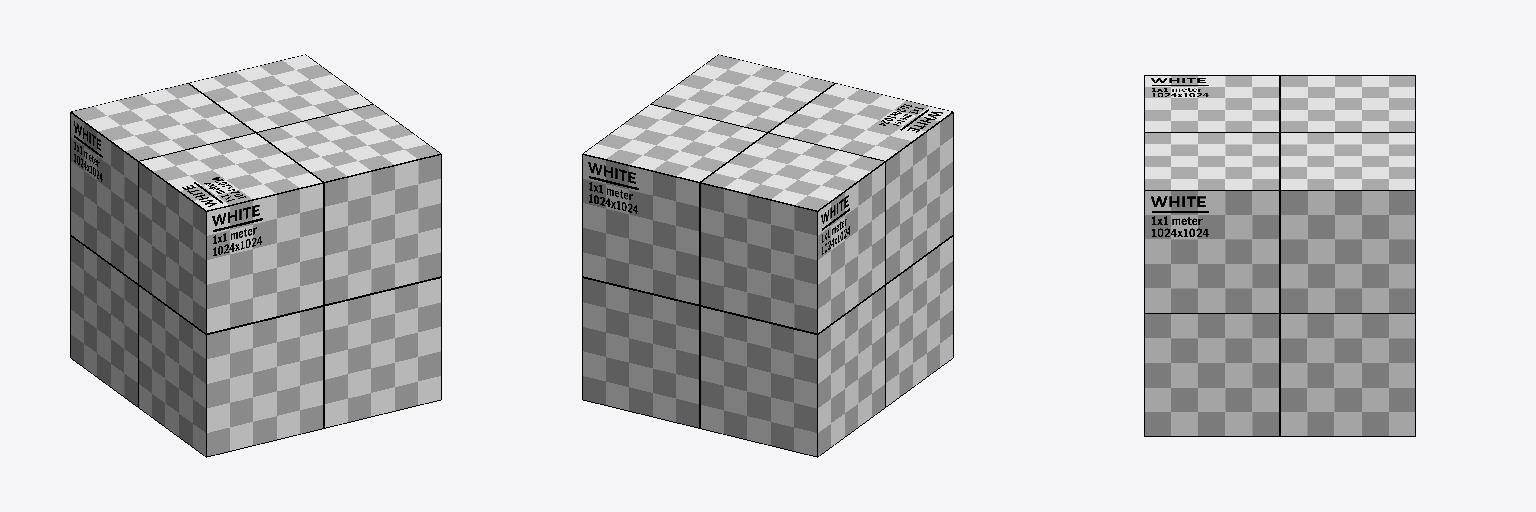
The picture shows the model from 3 angles: view 1: azimuth 30°, elevation 25°; view 2: azimuth 150°, elevation 25°; view 3: azimuth 270°, elevation 25°; orthographic projection.
Parts seen in each view (by area): view 1: Cube; view 2: Cube; view 3: Cube.
Boxes of the visible parts, box(x1,y1,x2,y2) form: Cube: box(70, 54, 441, 457); Cube: box(582, 54, 953, 457); Cube: box(1144, 75, 1415, 436).
Size of the model in its own units: 1 by 1 by 1.
1 materials, 1 textured.